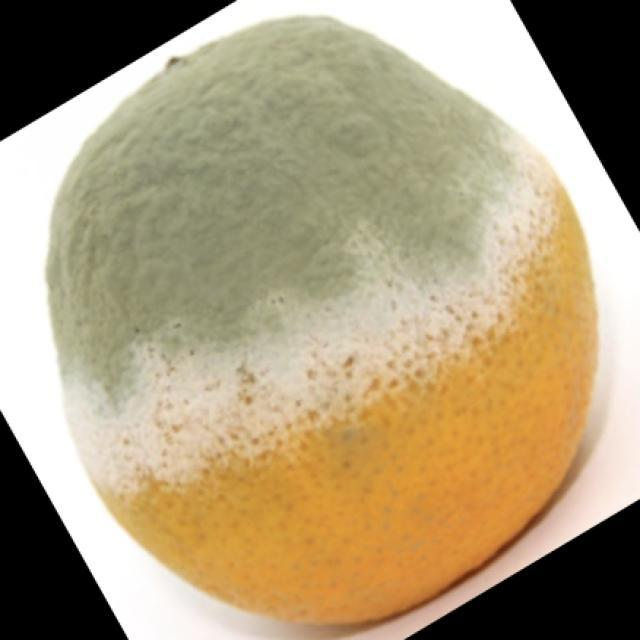sangat-busuk: (47, 16, 596, 623)
